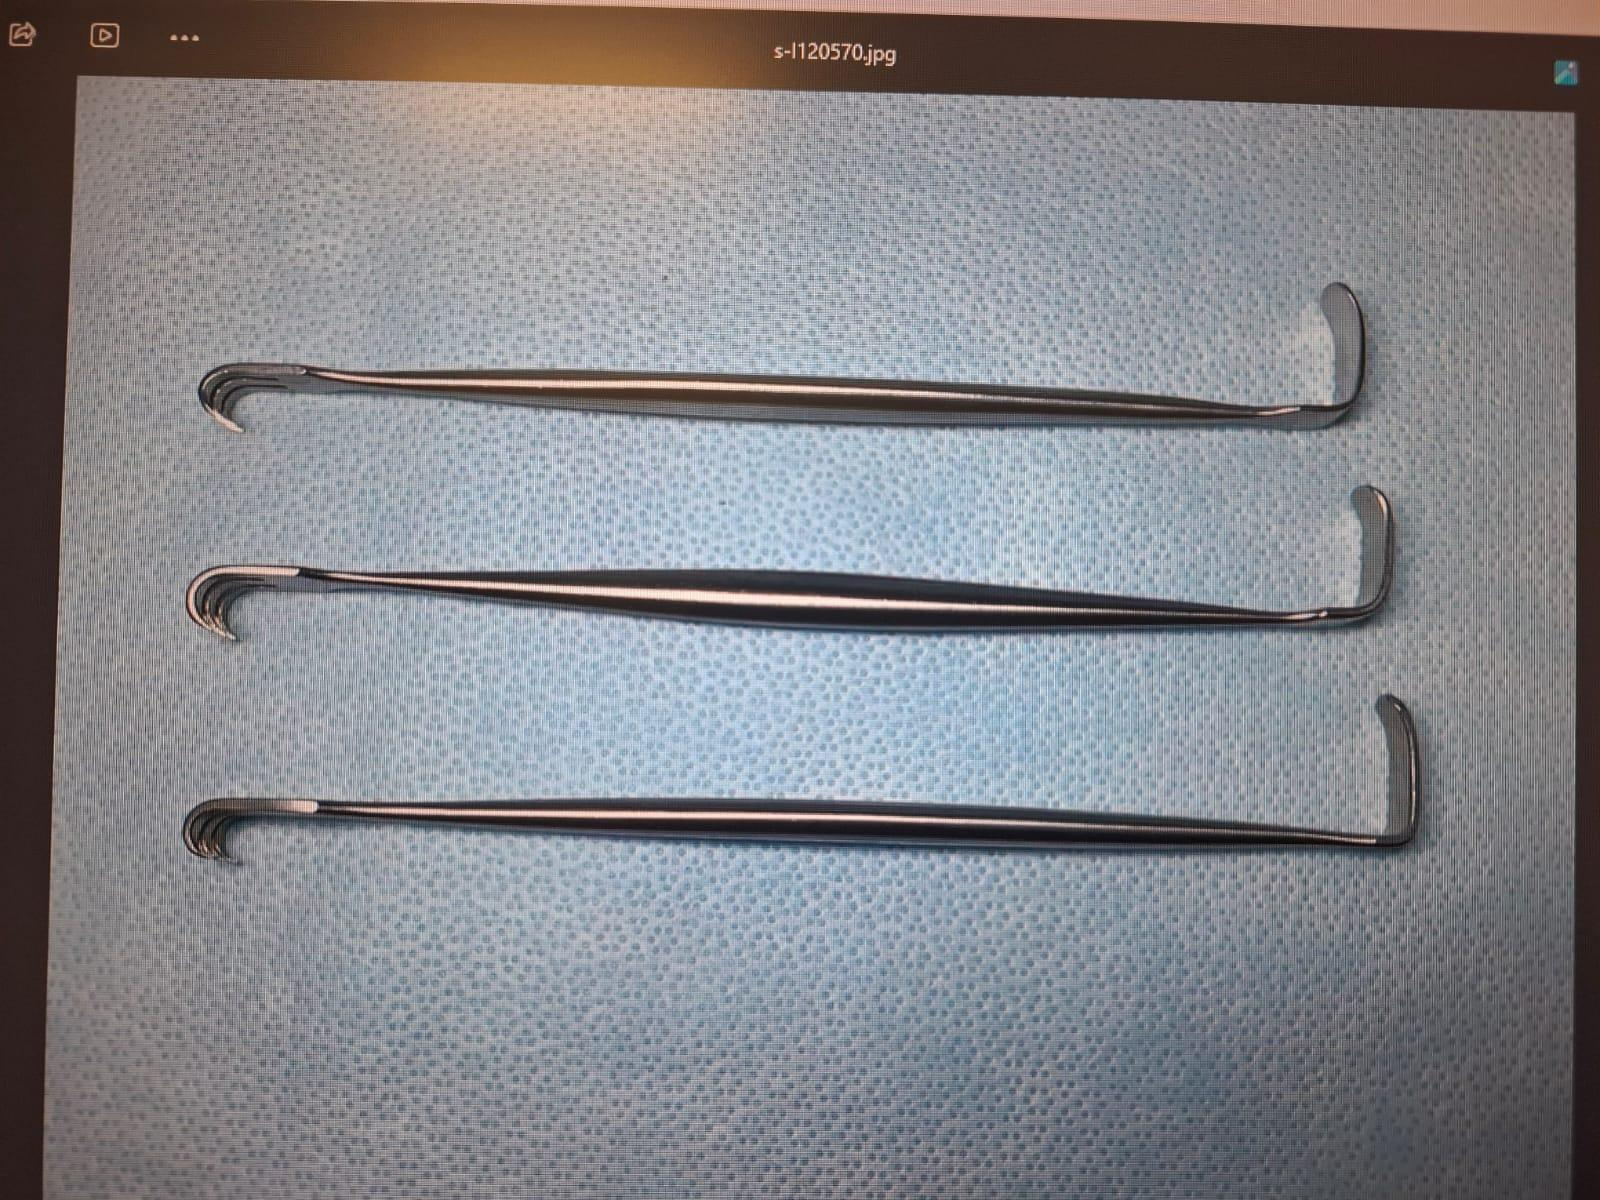Senn Retractor: (156, 682, 1438, 924), (180, 266, 1390, 456), (168, 480, 1424, 656)
